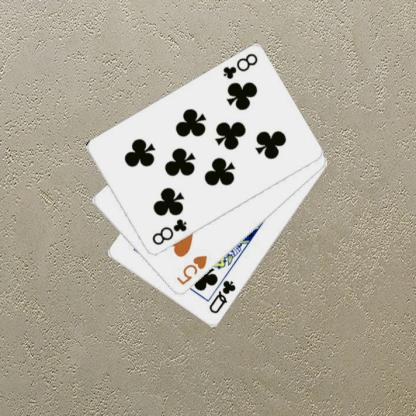5H: (173, 253, 208, 287)
8C: (149, 216, 188, 247), (220, 51, 259, 81)
QC: (206, 278, 237, 315)
